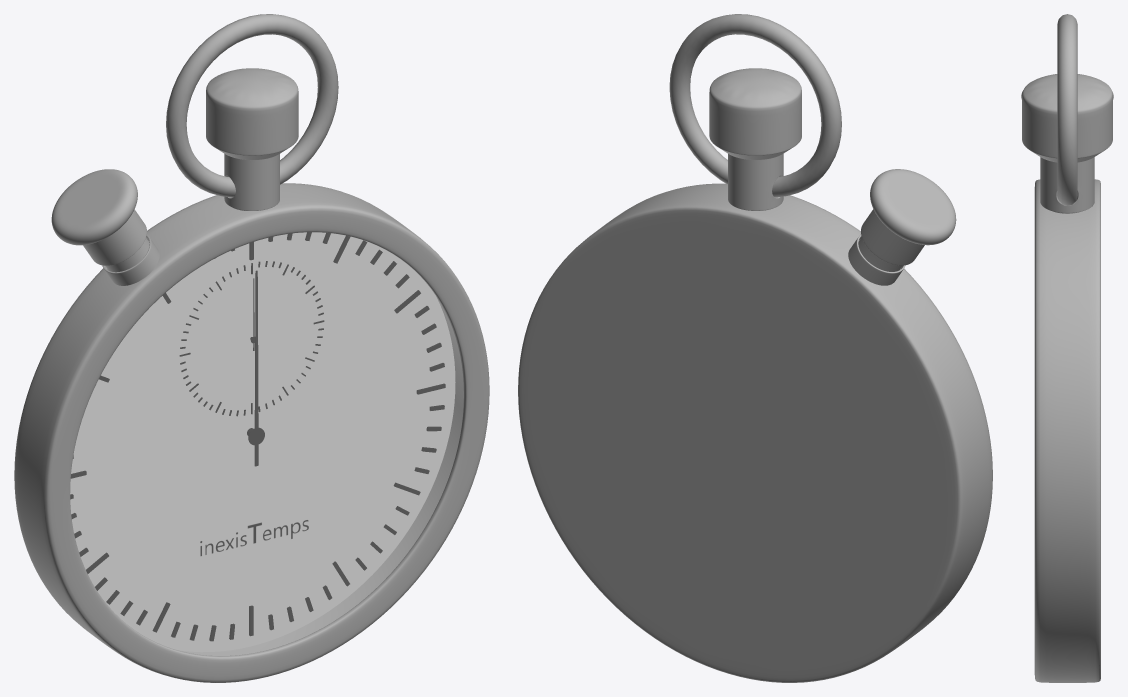
File: chronometre-01.glb
The picture shows the model from 3 angles, left to right: view 1: azimuth 30°, elevation 25°; view 2: azimuth 150°, elevation 25°; view 3: azimuth 270°, elevation 25°; orthographic projection. The views are drawn at different scales.
Parts seen in each view (by area): view 1: verre-01, reperes-fond-01, boitier-01, bouton-start-stop-01, anneau-01, bouton-reset-01, reperes-01, trotteuse-01, reperes-02; view 2: boitier-01, bouton-start-stop-01, anneau-01, bouton-reset-01; view 3: boitier-01, bouton-start-stop-01, anneau-01.
Boxes of the visible parts, x1,y1,x2,y2 form: verre-01: (70,232,463,655); reperes-fond-01: (70,232,455,652); boitier-01: (14,183,489,682); bouton-start-stop-01: (206,68,298,210); anneau-01: (166,14,338,197); bouton-reset-01: (51,169,159,285); reperes-01: (70,232,445,641); trotteuse-01: (247,270,264,466); reperes-02: (179,261,324,416); boitier-01: (518,183,992,682); bouton-start-stop-01: (709,68,801,210); anneau-01: (669,14,841,197); bouton-reset-01: (848,169,956,285); boitier-01: (1034,179,1100,682); bouton-start-stop-01: (1022,74,1112,213); anneau-01: (1057,14,1077,205).
Size of the model in its own units: 0.053 by 0.0738 by 0.0097.
Materials: 5 (1 with a texture image).
